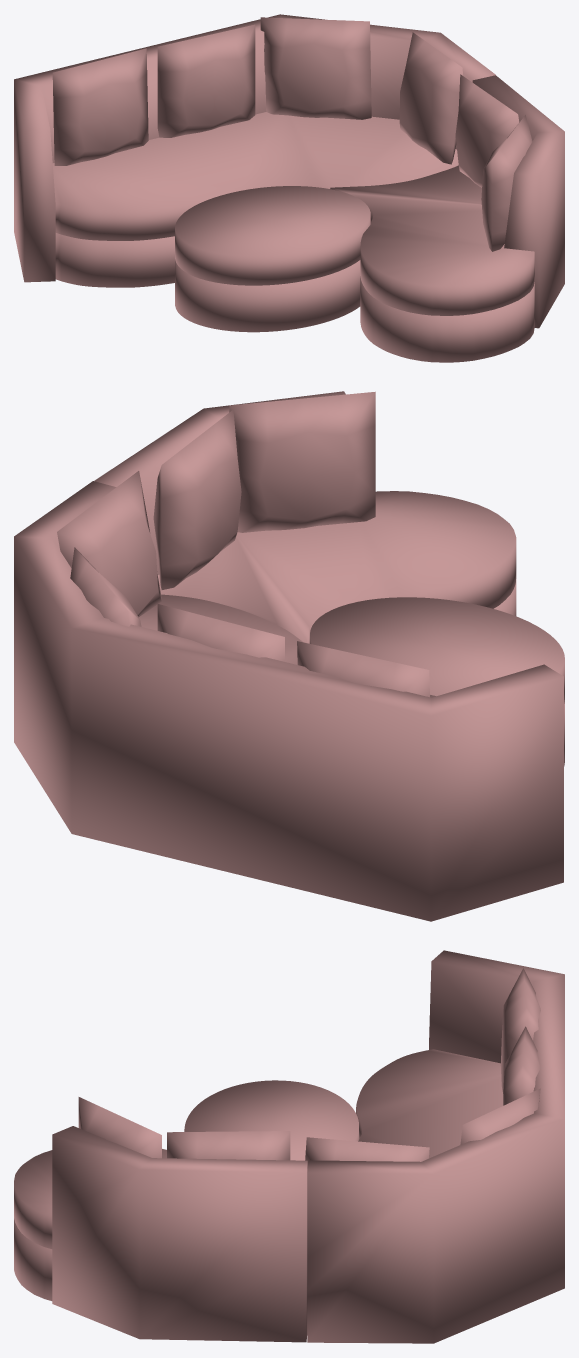
Rendered from mueble16.glb.
3 views of the same model, one above another, from view 1: azimuth 30°, elevation 25°; view 2: azimuth 150°, elevation 25°; view 3: azimuth 270°, elevation 25° (orthographic). The views are drawn at different scales.
Parts seen in each view (by area): view 1: Cube075, Cube087, Circle, Cube085, Cube084, Cube083, Cube086, Cube088, Cube089; view 2: Cube075, Cube087, Cube089, Circle, Cube088, Cube086, Cube083, Cube084, Cube085; view 3: Cube075, Cube087, Circle, Cube088, Cube089, Cube086, Cube083, Cube084, Cube085.
Boxes of the visible parts, <box> form: Cube075: <box>14,14,495,287</box>; Cube087: <box>330,75,564,362</box>; Circle: <box>175,186,370,332</box>; Cube085: <box>260,17,371,119</box>; Cube084: <box>157,24,255,137</box>; Cube083: <box>52,48,148,165</box>; Cube086: <box>399,32,463,164</box>; Cube088: <box>455,74,519,187</box>; Cube089: <box>481,115,532,251</box>; Cube075: <box>14,481,563,921</box>; Cube087: <box>94,391,516,643</box>; Cube089: <box>229,391,375,532</box>; Circle: <box>310,597,564,766</box>; Cube088: <box>153,410,241,589</box>; Cube086: <box>57,471,161,617</box>; Cube083: <box>297,641,429,697</box>; Cube084: <box>157,604,284,661</box>; Cube085: <box>70,547,141,626</box>; Cube075: <box>307,950,564,1343</box>; Cube087: <box>14,1126,307,1342</box>; Circle: <box>184,1080,358,1160</box>; Cube088: <box>167,1131,290,1160</box>; Cube089: <box>78,1097,161,1158</box>; Cube086: <box>305,1137,429,1168</box>; Cube083: <box>500,968,540,1093</box>; Cube084: <box>503,1026,540,1105</box>; Cube085: <box>460,1088,540,1144</box>.
Bounding box in the file's own units: 2.29 × 0.8971 × 2.38.
